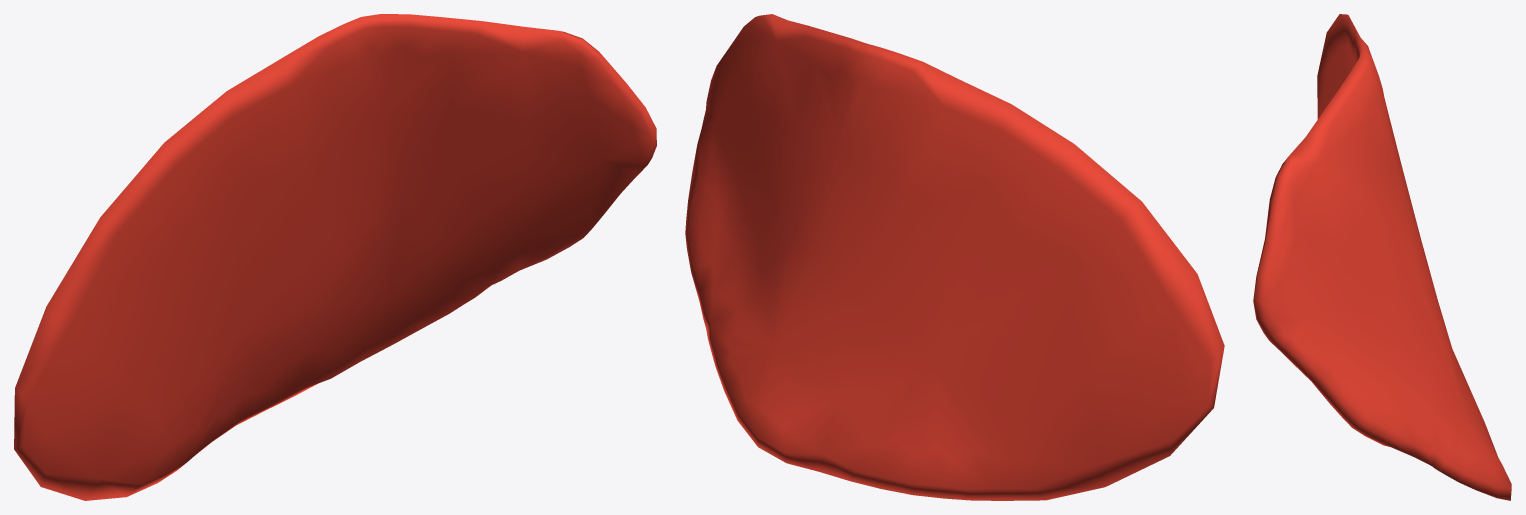
The model's file is Plantaris_lateral_gastrocnemius_origin_002.glb.
3 renders of one model, left to right at view 1: azimuth 30°, elevation 25°; view 2: azimuth 150°, elevation 25°; view 3: azimuth 270°, elevation 25°, orthographic. The views are drawn at different scales.
Parts seen in each view (by area): view 1: Plantaris_muscle_medially_to_the_lateral_gastrocnemius_orig_; view 2: Plantaris_muscle_medially_to_the_lateral_gastrocnemius_orig_; view 3: Plantaris_muscle_medially_to_the_lateral_gastrocnemius_orig_.
Boxes of the visible parts, x1,y1,x2,y2 form: Plantaris_muscle_medially_to_the_lateral_gastrocnemius_orig_: [14, 14, 656, 500]; Plantaris_muscle_medially_to_the_lateral_gastrocnemius_orig_: [685, 14, 1224, 500]; Plantaris_muscle_medially_to_the_lateral_gastrocnemius_orig_: [1253, 14, 1511, 500].
Bounding box in the file's own units: 0.0167 × 0.0117 × 0.00605.
